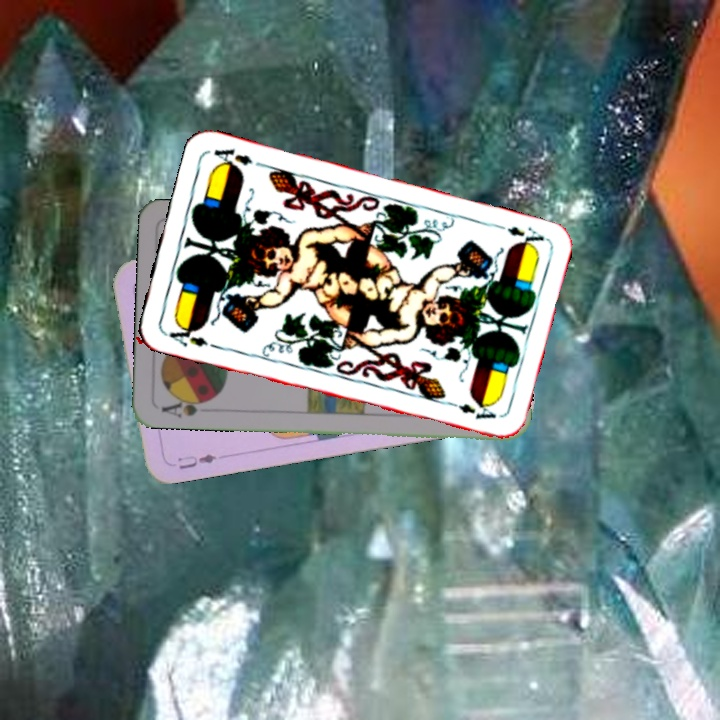EA: (490, 219, 547, 252), (160, 319, 210, 349)
EU: (173, 450, 219, 472)
SA: (157, 393, 216, 420)
